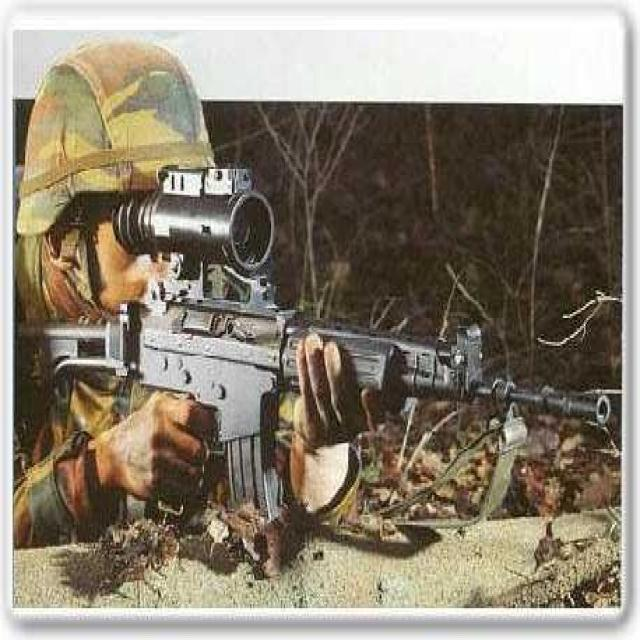heavyweapon: (22, 156, 620, 534)
